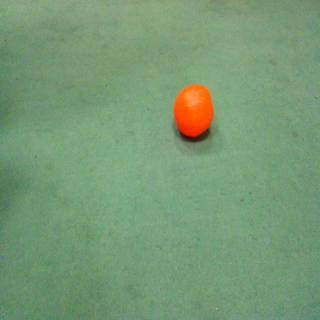orange: (171, 81, 217, 145)
